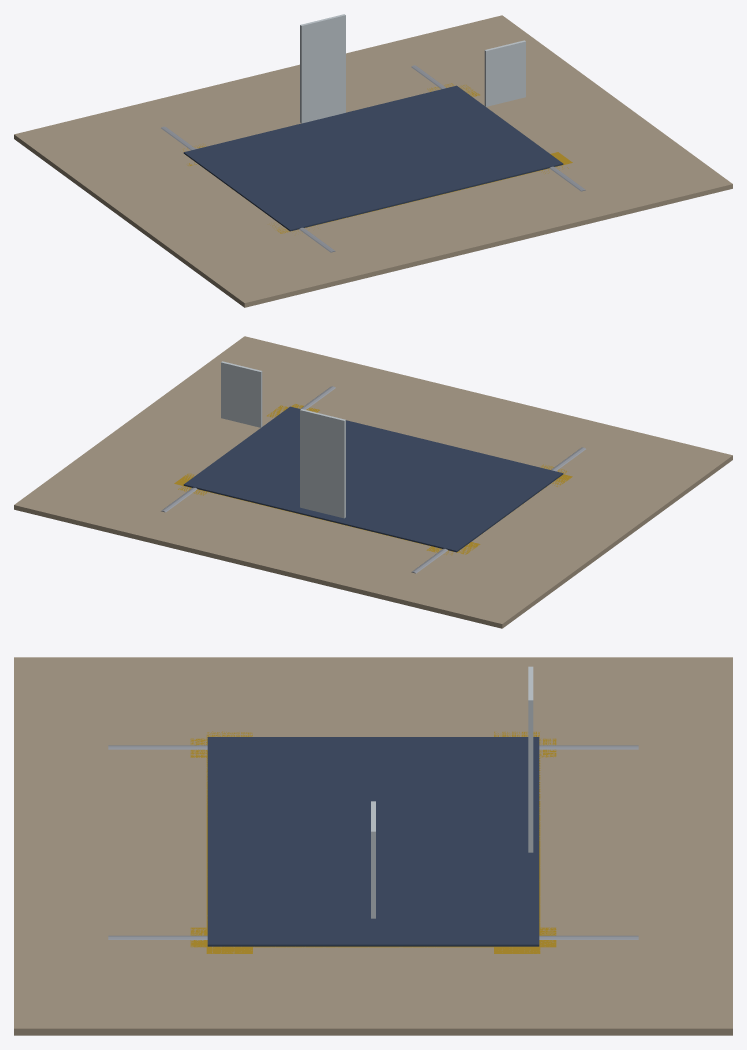
The model's file is stage_07_openings.glb.
3 views of the same model, one above another, from view 1: azimuth 30°, elevation 25°; view 2: azimuth 150°, elevation 25°; view 3: azimuth 270°, elevation 25° (orthographic). The views are drawn at different scales.
Parts seen in each view (by area): view 1: world; view 2: world; view 3: world.
Boxes of the visible parts, box(x1,y1,x2,y2) form: world: box(14, 14, 732, 307); world: box(14, 336, 732, 628); world: box(14, 657, 732, 1035).
Bounding box in the file's own units: 11 × 3 × 9.
